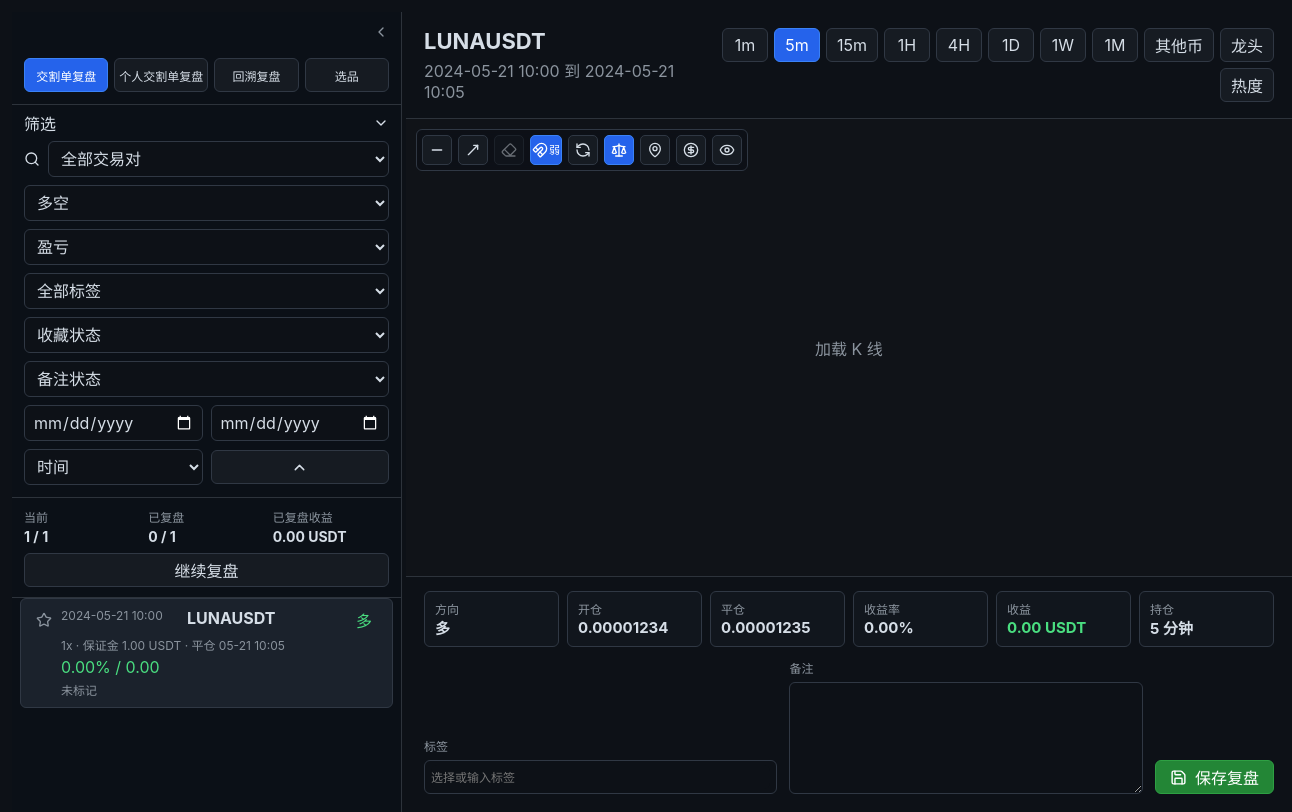
Test: App Chart Price › toggles the all open/close markers view and hides the single-trade eye button
Step 1. Click the button named "显示全部开平仓" → x=655, y=150, box [640,135,670,165]
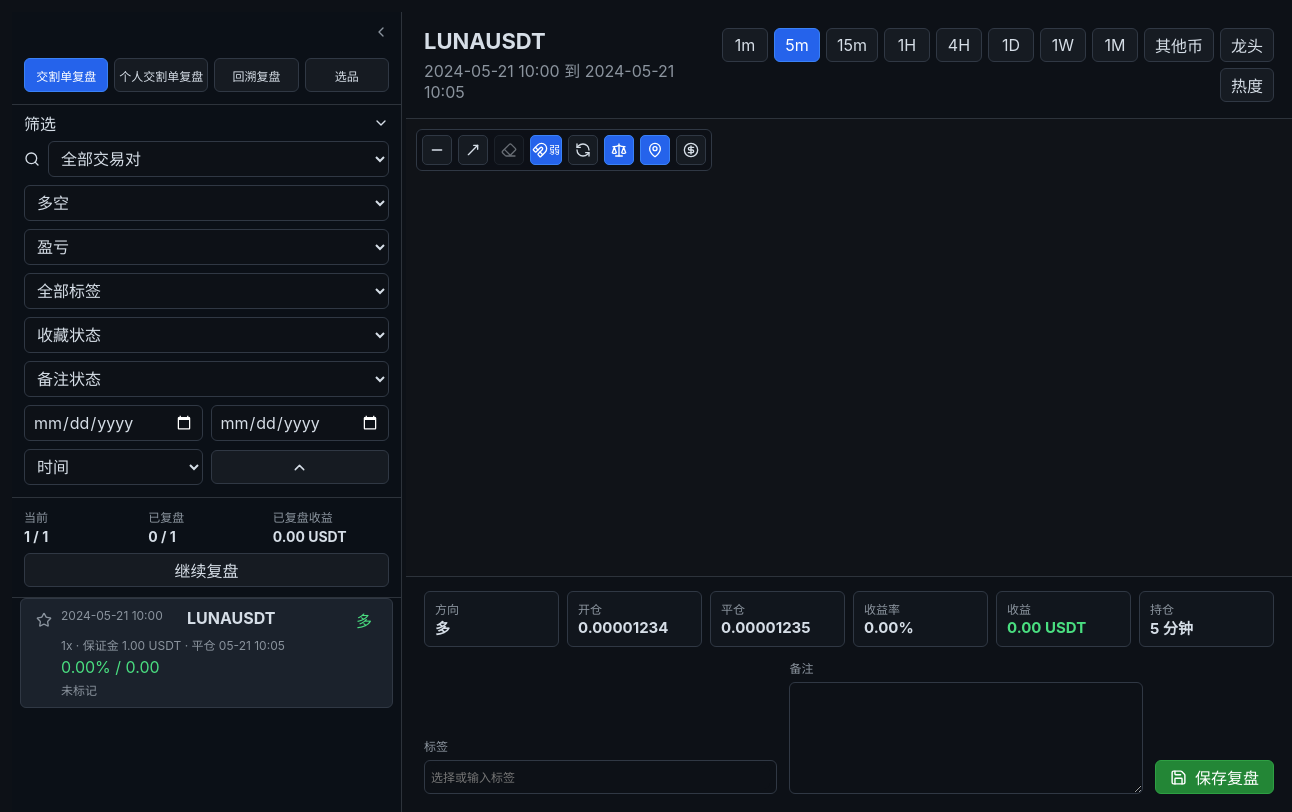
Check: the button named "隐藏全部开平仓" is shown
Check: the button labelled "隐藏开平仓标记" is gone
Step 2. Click the button named "隐藏全部开平仓" → x=655, y=150, box [640,135,670,165]
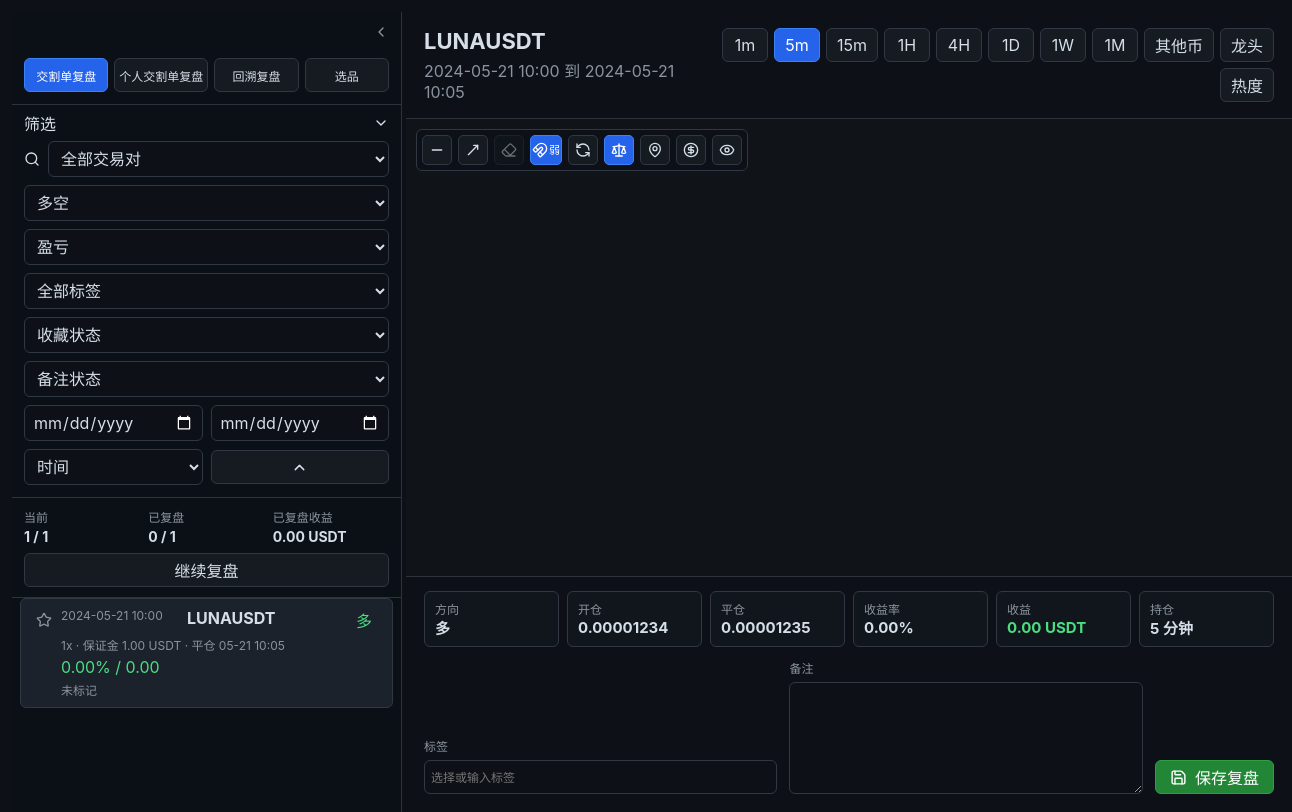
Check: the button named "显示全部开平仓" is shown, box [640,135,670,165]
Check: the button named "隐藏开平仓标记" is shown, box [712,135,742,165]
